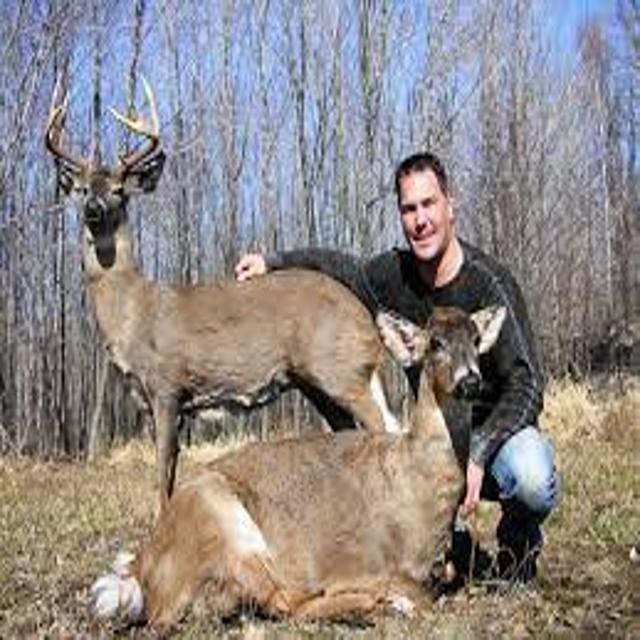deer: (33, 57, 428, 525), (114, 283, 555, 638)
poacher: (216, 138, 570, 603)
